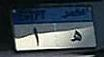1: (31, 26, 41, 47)
haa: (69, 28, 82, 44)
